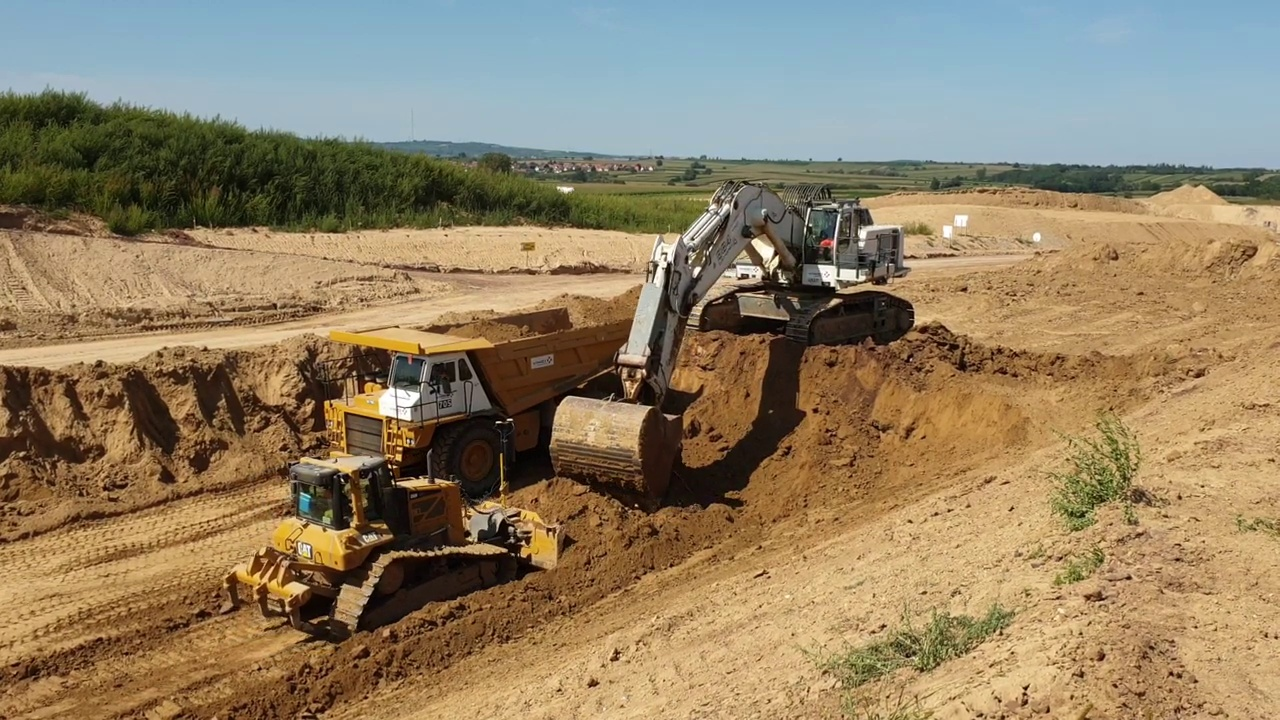bulldozer: (222, 412, 570, 643)
excavator: (547, 179, 919, 499)
truck: (298, 300, 677, 503)
